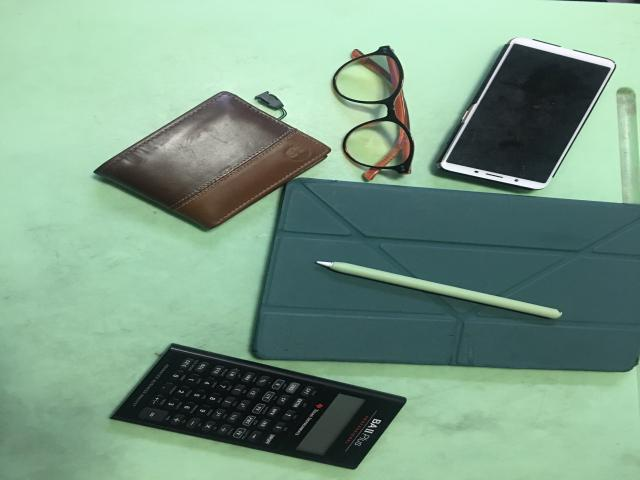Glasses: (333, 46, 413, 179)
Mobile phone: (438, 38, 615, 189)
Wallet: (95, 92, 330, 229)
